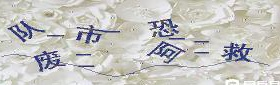chinese: (74, 21, 108, 48), (8, 23, 43, 47), (147, 14, 179, 38), (149, 43, 183, 65), (30, 52, 62, 74), (224, 42, 254, 64)
